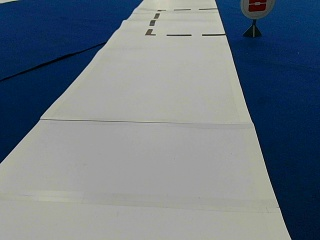company: (240, 0, 274, 19)
